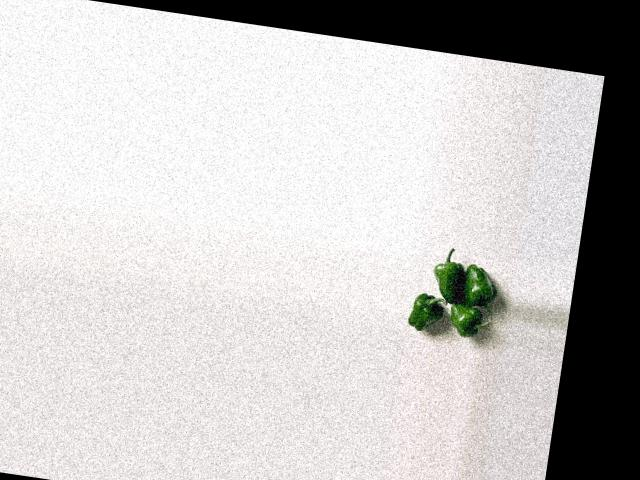bell_pepper: (444, 304, 490, 339)
